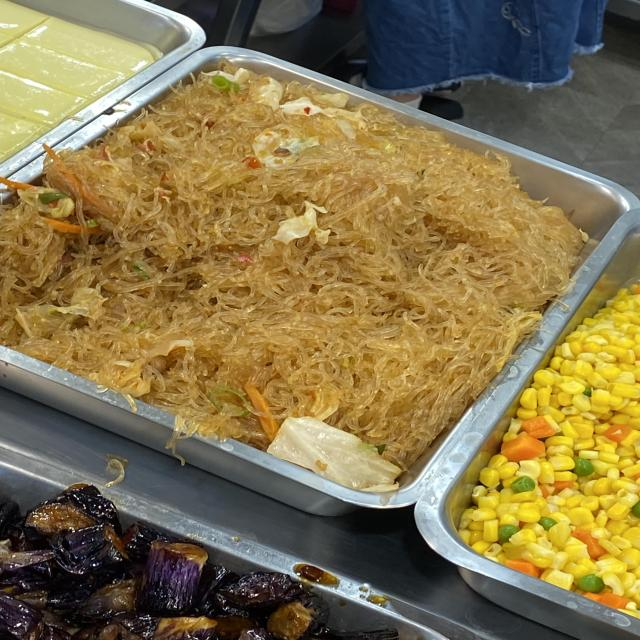Ants climbing the tree: (104, 145, 462, 380)
